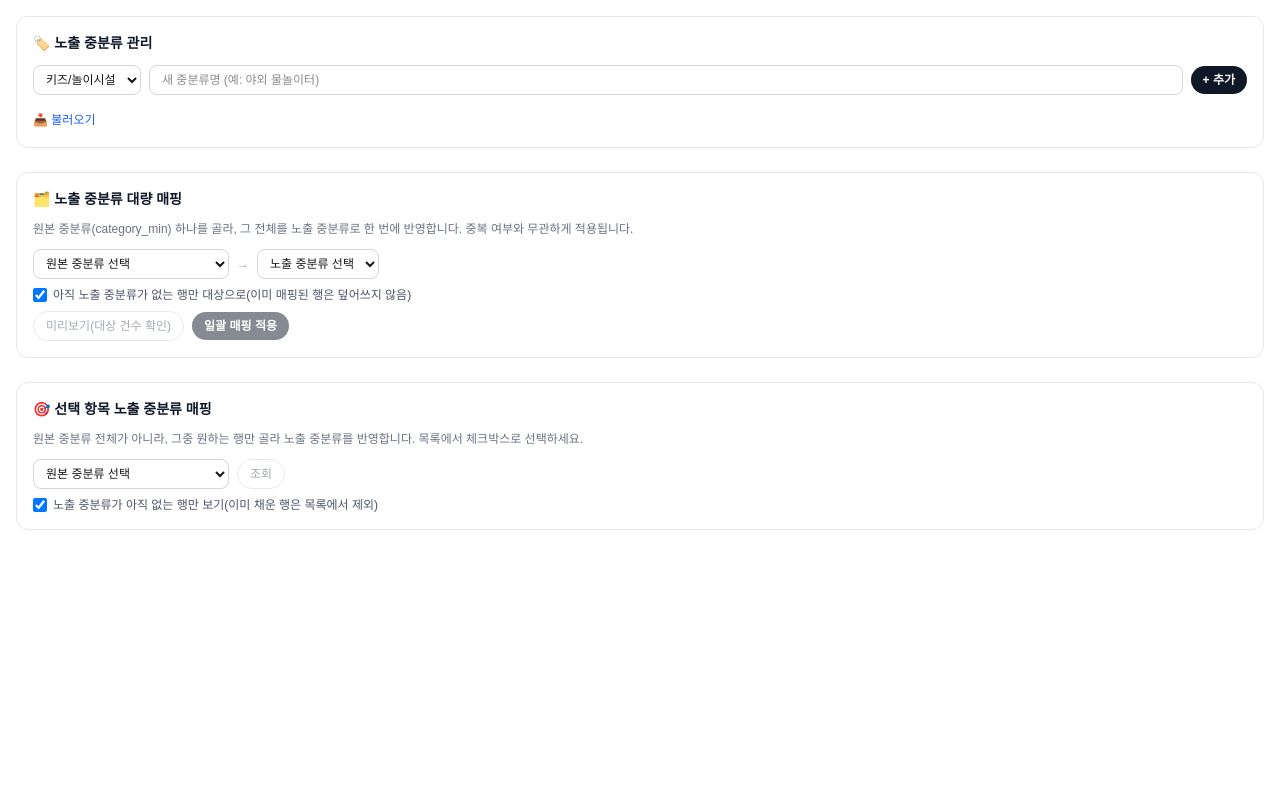
Scenario: CategoryMappingPanel › 노출 중분류 삭제 › 참조 중인 데이터가 있어 서버가 거부하면(409) 에러 문구를 보여주고 목록은 그대로 남는다
The image size is (1280, 800).
Step 1. Click the button "📥 불러오기" → (64, 120), box [33,112,96,128]
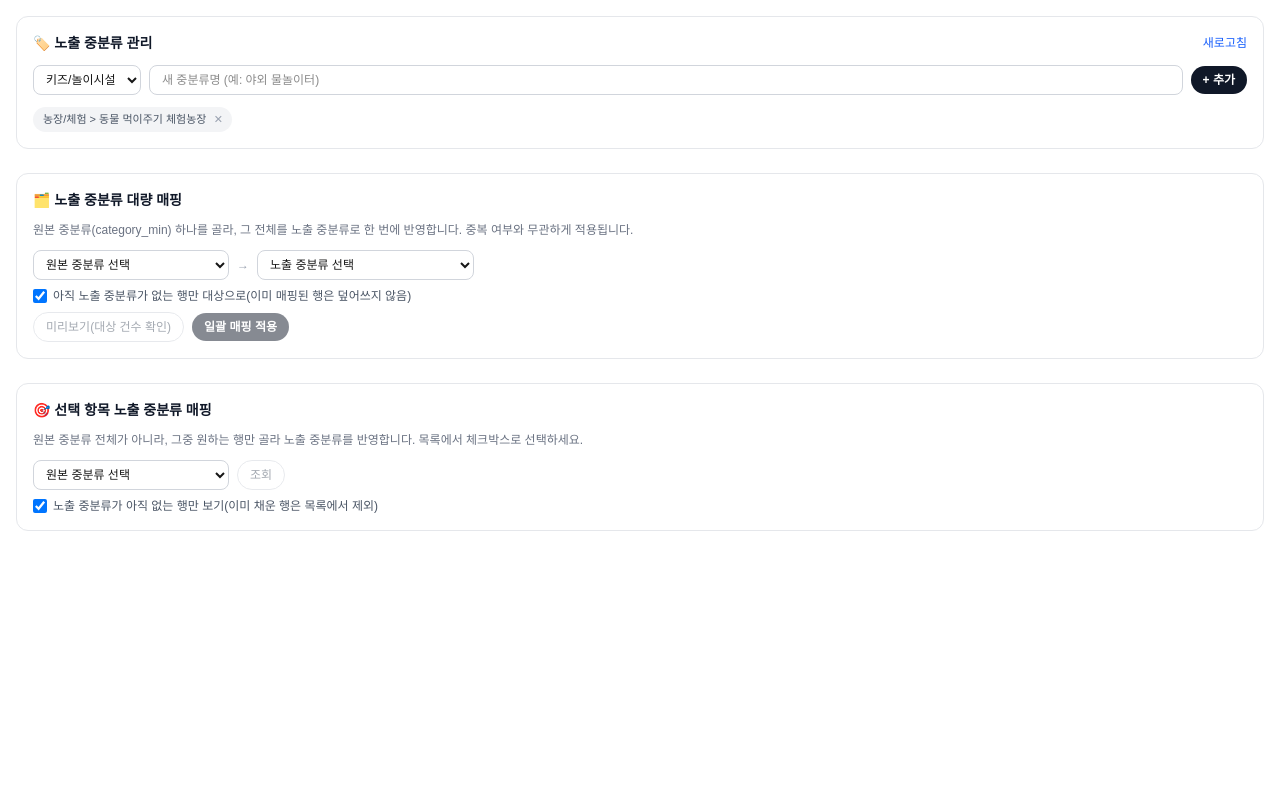
expect the text "농장/체험 > 동물 먹이주기 체험농장" is shown: met, box [43,111,206,128]
Step 2. Click the button named "농장/체험 > 동물 먹이주기 체험농장 삭제" → (218, 119), box [210,111,226,127]
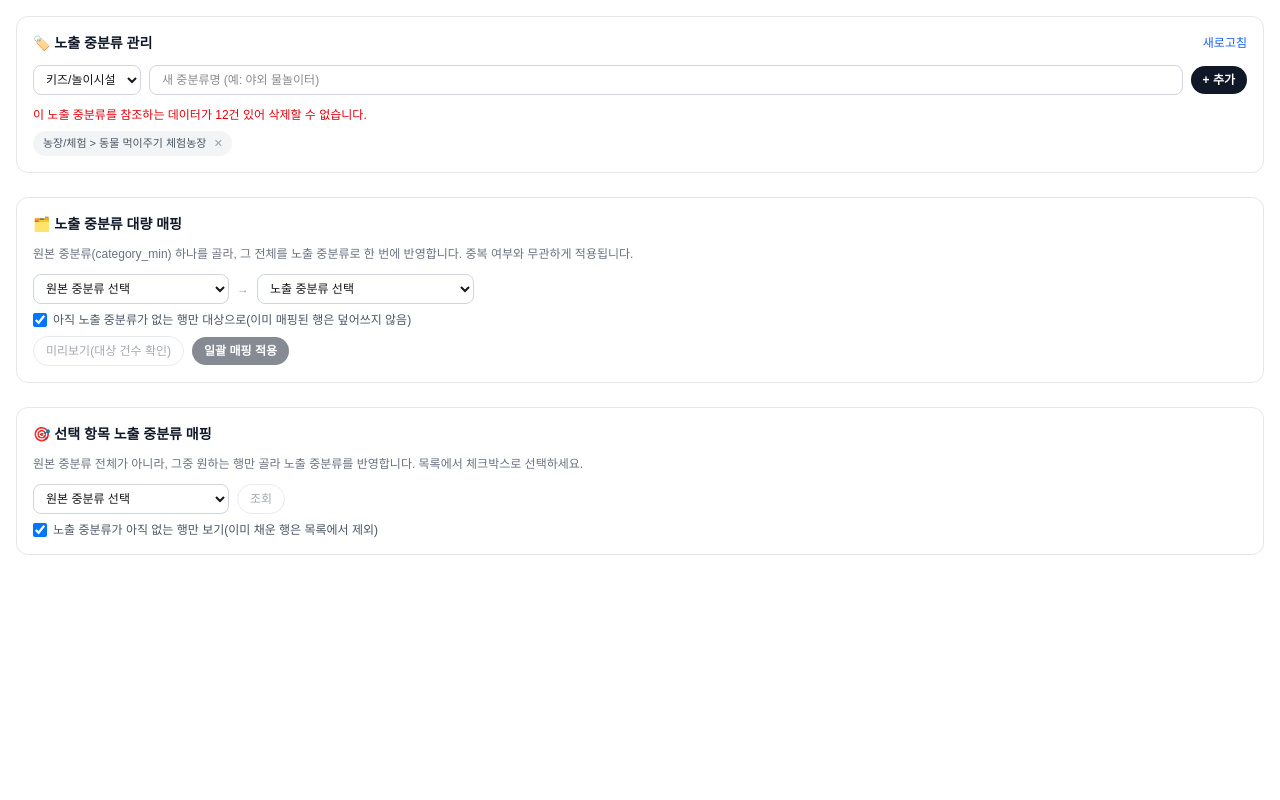
expect the text "농장/체험 > 동물 먹이주기 체험농장" is shown: met, box [43,135,206,152]
expect the text "이 노출 중분류를 참조하는 데이터가 12건 있어 삭제할 수 없습니다." is shown: met, box [33,108,367,122]
